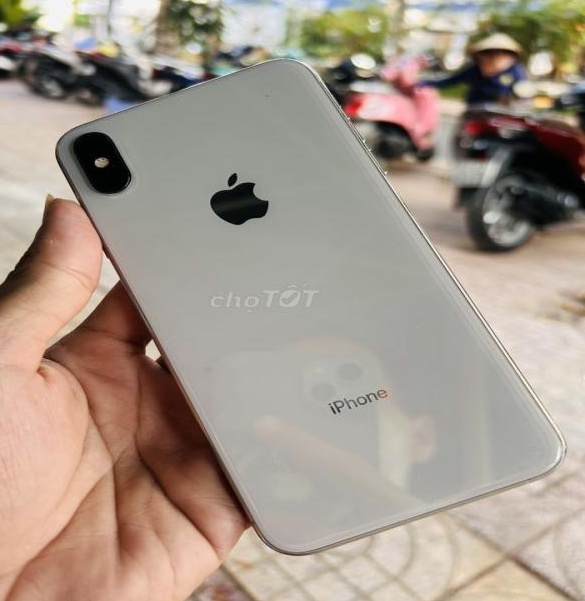scratch: (257, 88, 279, 107)
